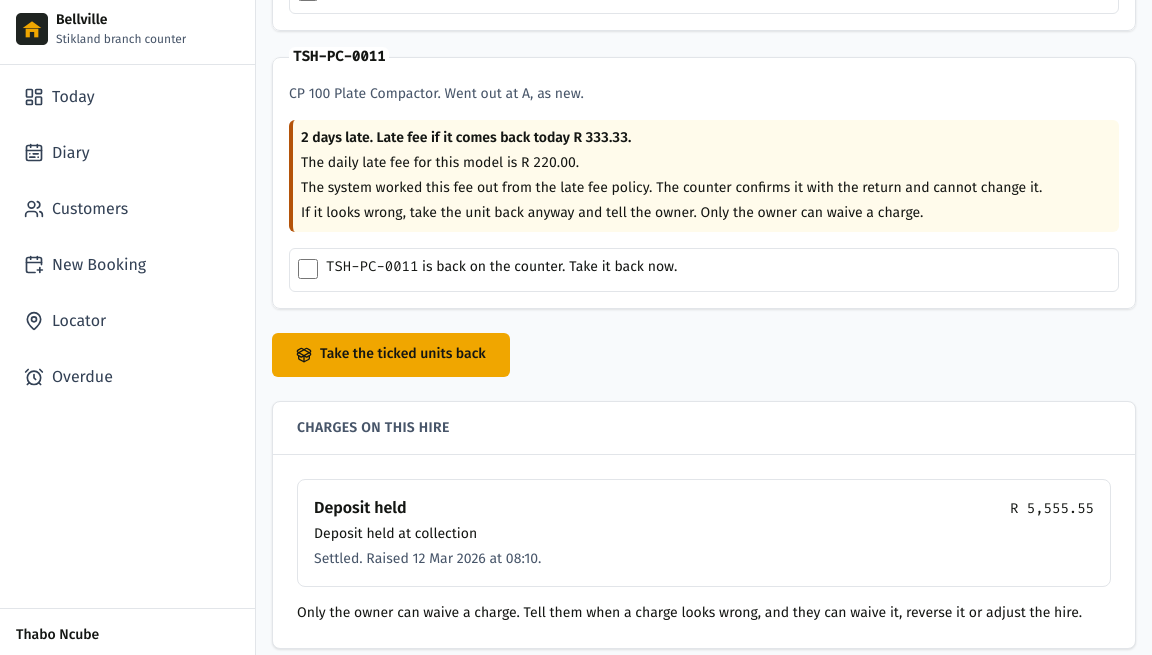
it: the return form › sends nothing until a unit is ticked, and says so
The image size is (1152, 655).
(page scrolled)
Click the button "Take the ticked units back" at {"x": 391, "y": 354}, box [272,332,510,376]
(page scrolled)
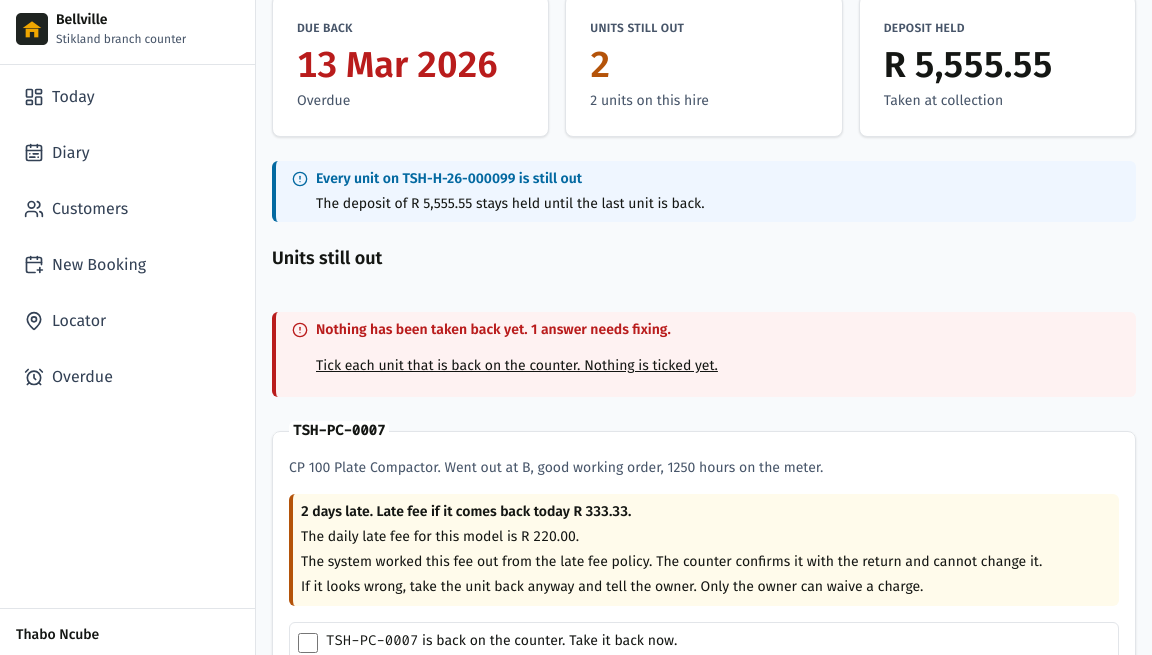
Check: the 2nd message shows "Nothing has been taken back yet. 1 answer needs fixing.", box [316,321,671,338]
Check: the 2nd message shows "Tick each unit that is back on the counter.", box [316,345,718,389]
